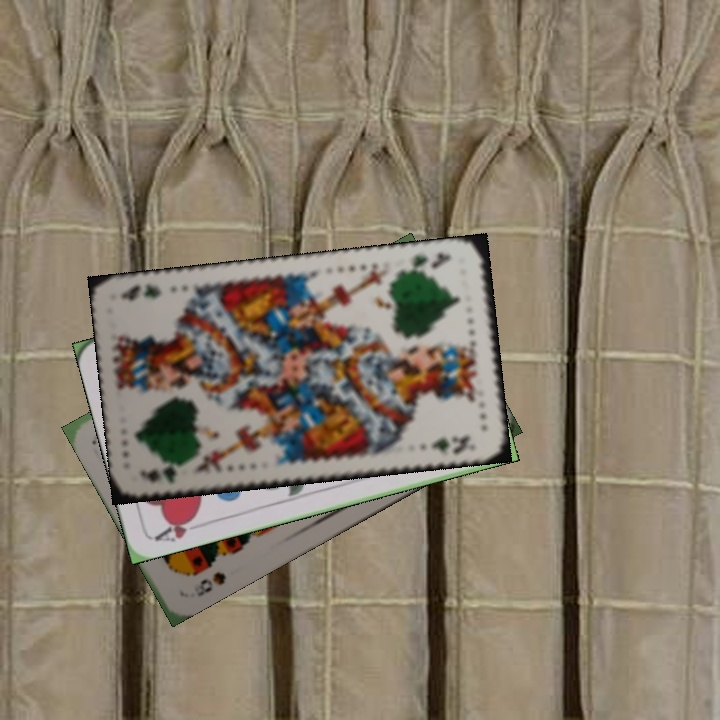GK: (136, 461, 190, 486), (404, 248, 454, 275)
HA: (150, 510, 208, 545)
S8: (189, 567, 229, 600)
